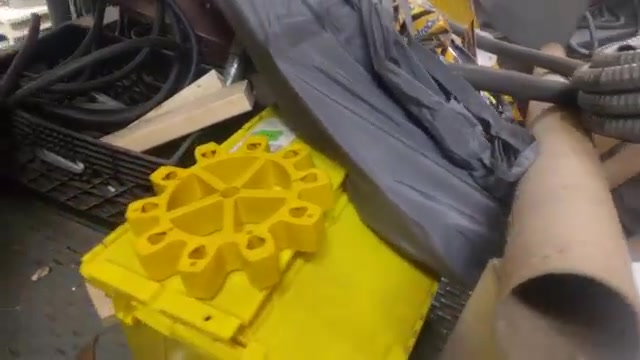gear: (121, 116, 323, 297)
